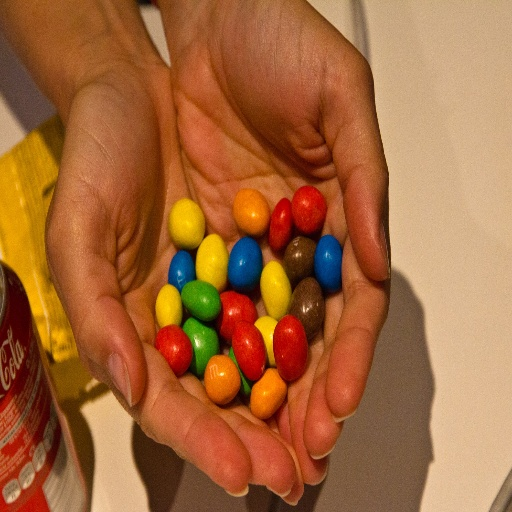hand: (42, 56, 308, 508), (172, 0, 391, 487)
